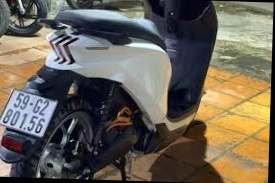Bien-so: (13, 95, 74, 146)
